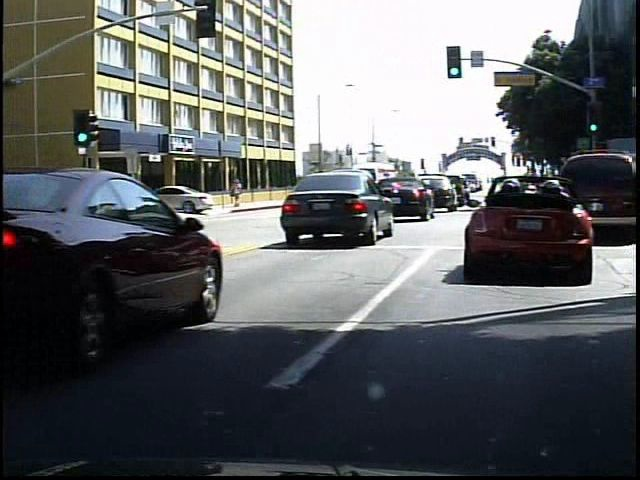person: (222, 174, 241, 210)
